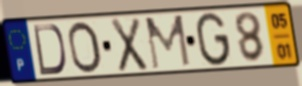8: (233, 10, 267, 64)
D: (31, 23, 68, 77)
G: (194, 11, 232, 69)
M: (143, 13, 192, 72)
O: (66, 20, 105, 76)
X: (109, 16, 149, 75)
